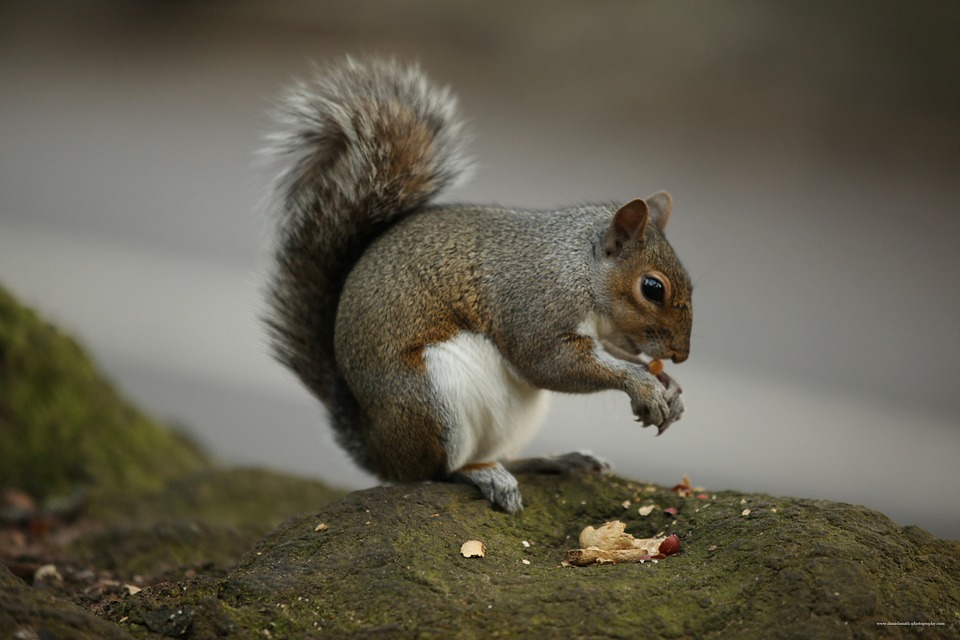squirrel: (268, 62, 697, 514)
